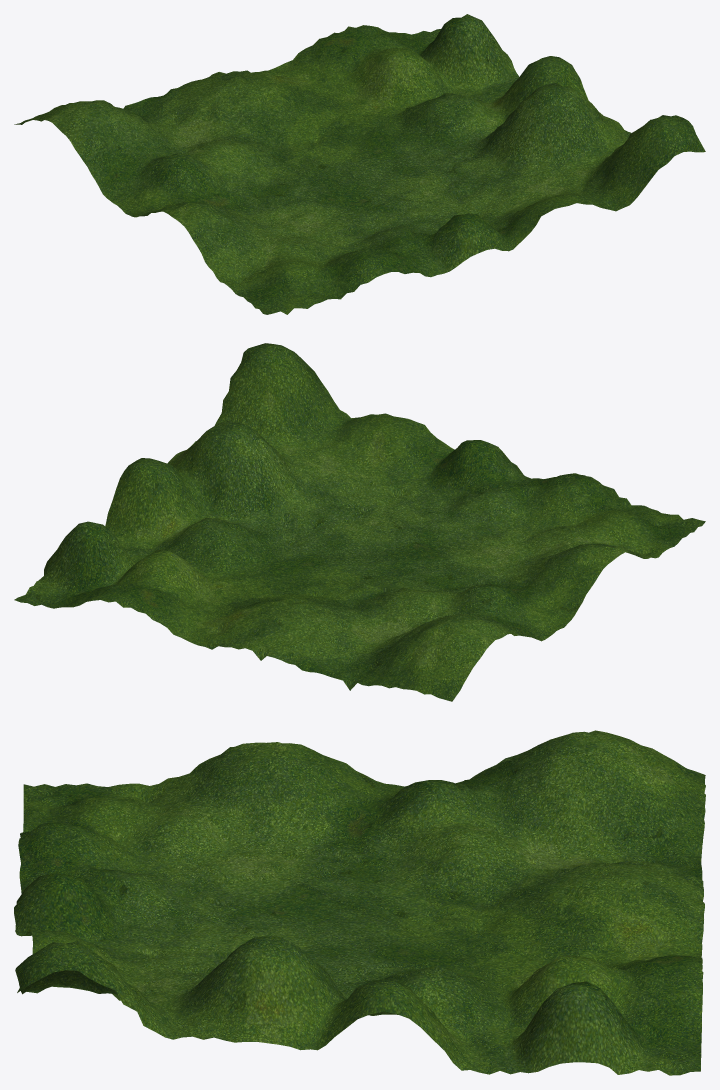
Rendered from floor-mountain.glb.
The picture shows the model from 3 angles, top to bottom: view 1: azimuth 30°, elevation 25°; view 2: azimuth 150°, elevation 25°; view 3: azimuth 270°, elevation 25°; orthographic projection. The views are drawn at different scales.
Parts seen in each view (by area): view 1: 平面; view 2: 平面; view 3: 平面.
Boxes of the visible parts, x1,y1,x2,y2 form: 平面: (14,14,705,314); 平面: (14,343,705,701); 平面: (14,730,705,1075).
Bounding box in the file's own units: 100 × 20 × 100.
Materials: 1 (1 with a texture image).
